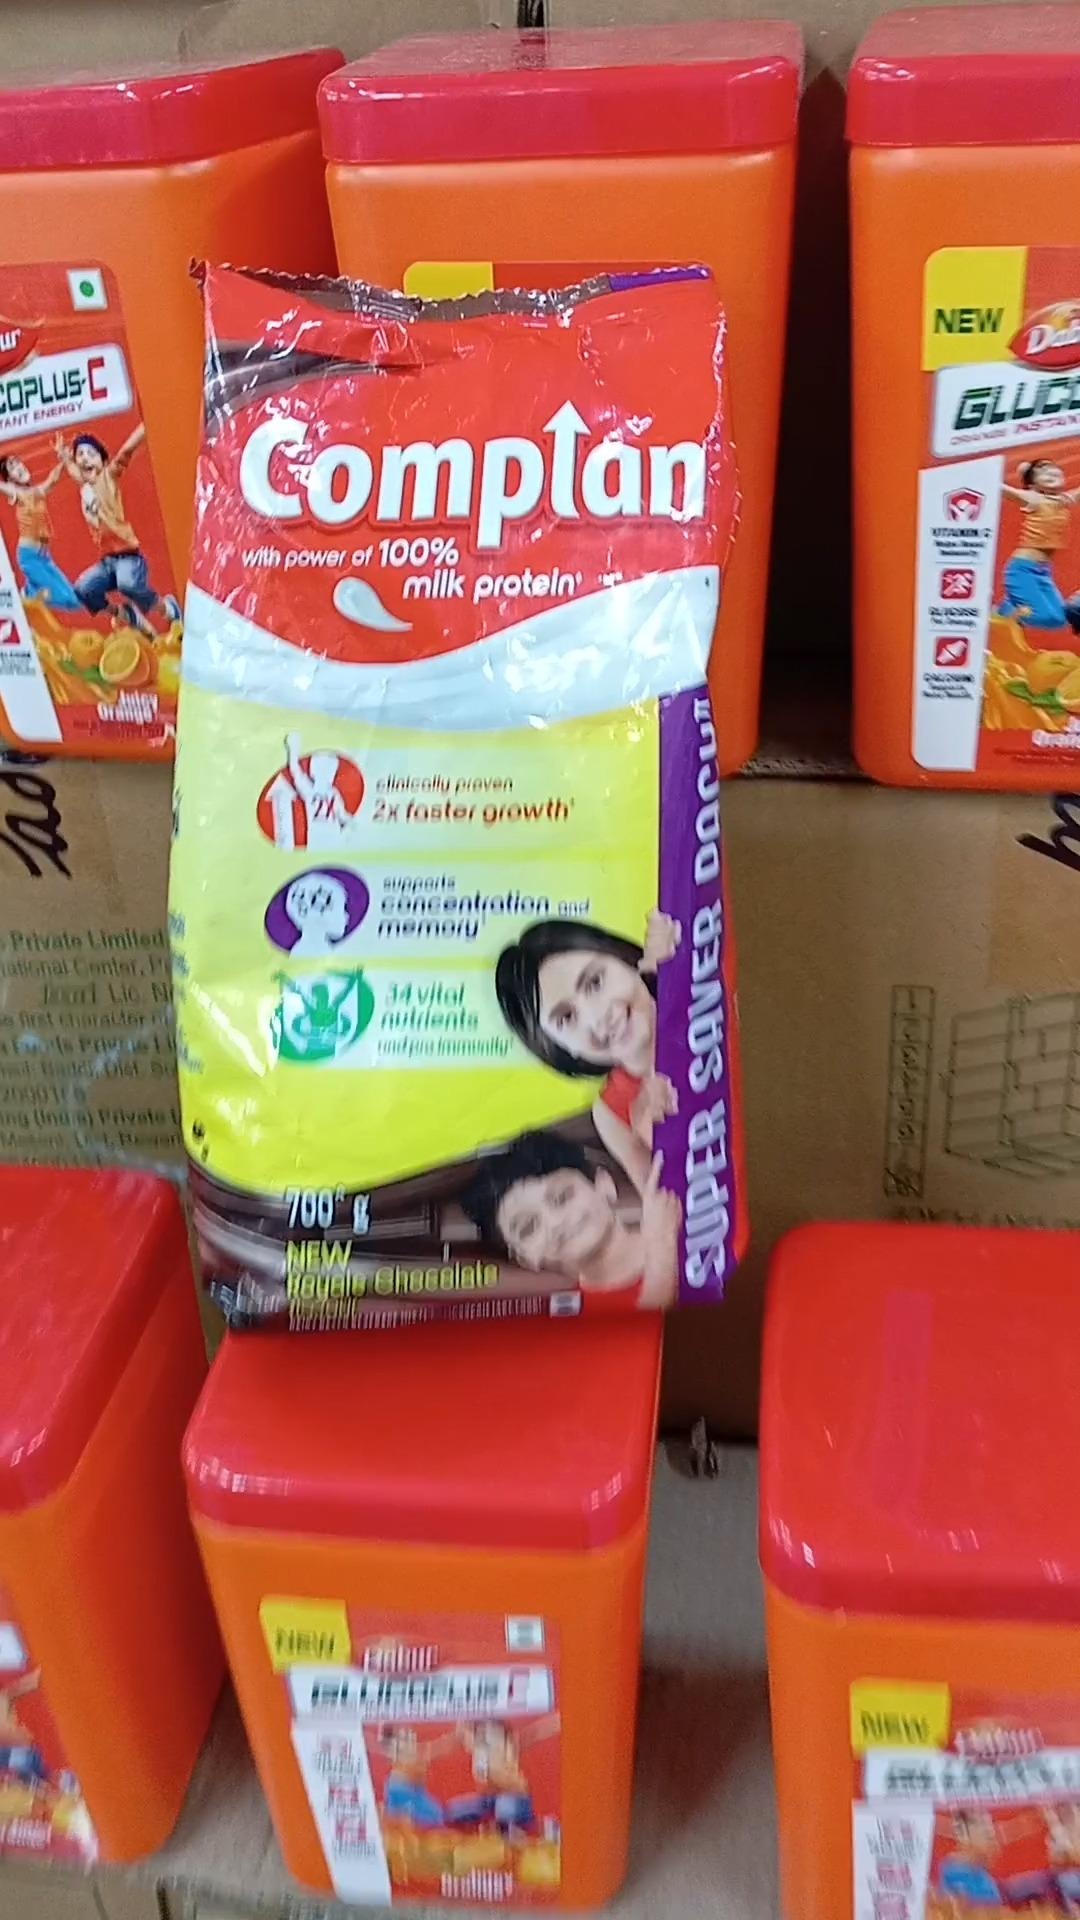COMPLAN_RC_POUCH_700_GMS_12: (190, 260, 745, 1325)
